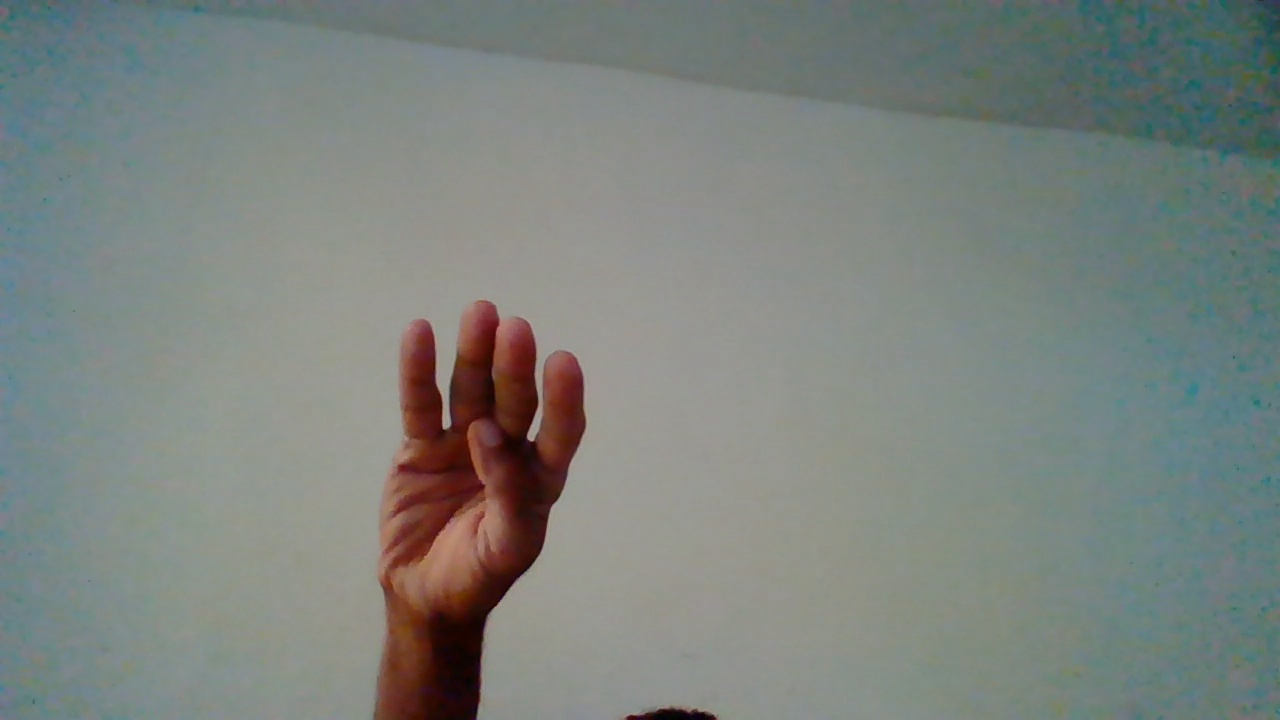me: (377, 294, 590, 711)
